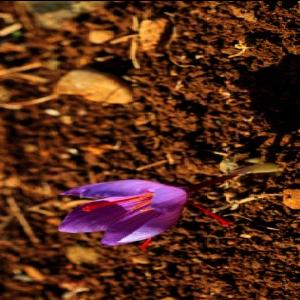Saffron: (57, 178, 194, 245)
